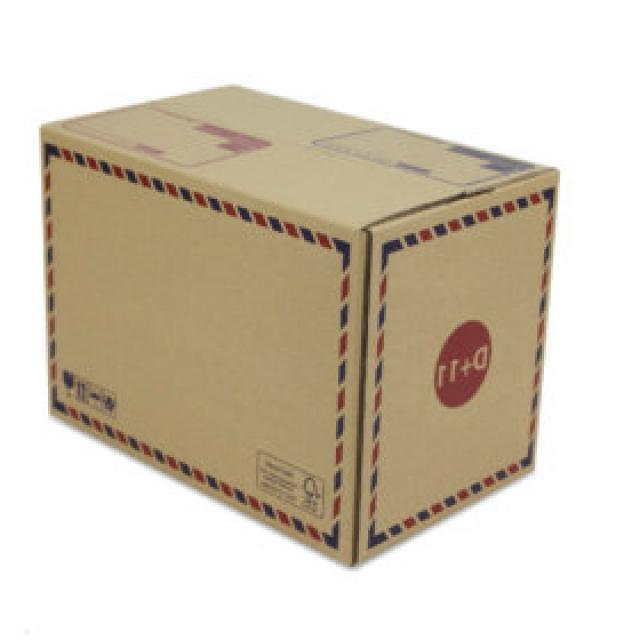box: (23, 66, 584, 572)
